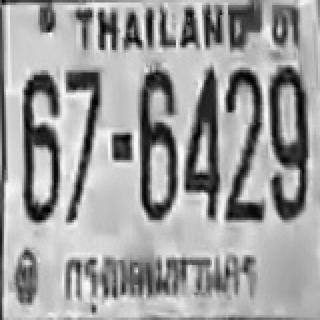N00: (268, 65, 306, 162)
N02: (225, 66, 261, 191), (226, 106, 264, 219)
N04: (184, 66, 218, 211), (184, 65, 218, 168)
N06: (137, 66, 177, 219)
N07: (64, 68, 100, 158)
N09: (269, 89, 307, 219), (269, 101, 307, 219)
P04: (60, 249, 261, 315)
